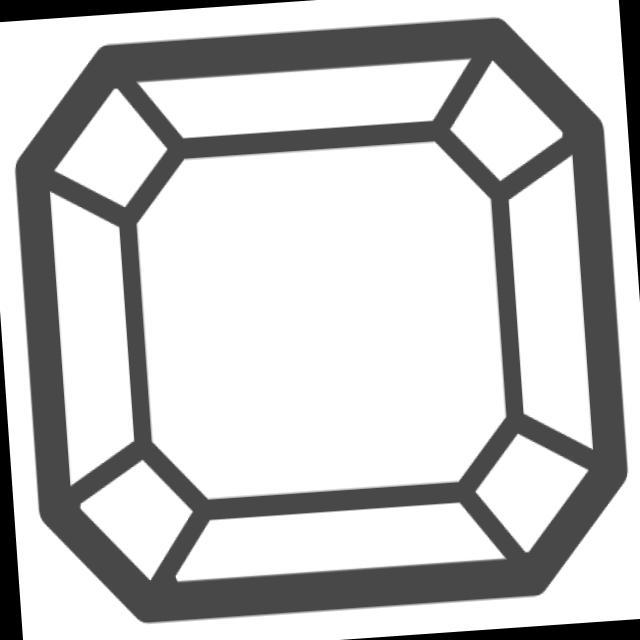emerald: (1, 1, 640, 632)
